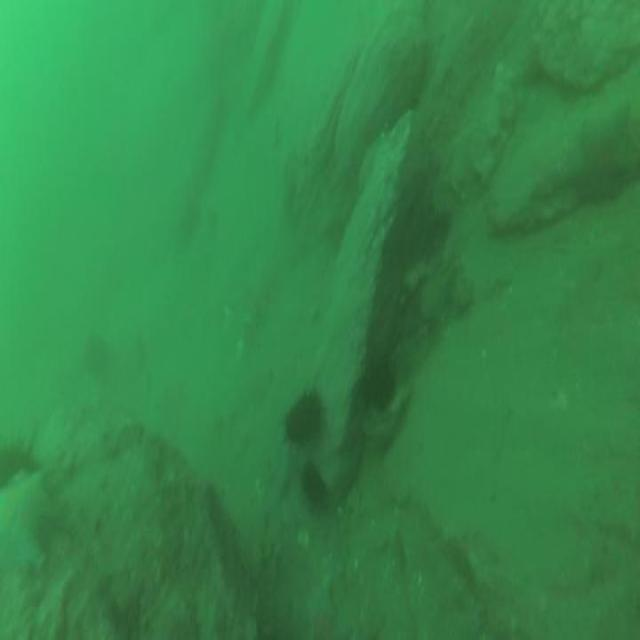echinus: (282, 378, 326, 452), (359, 354, 401, 417), (293, 455, 329, 511)
